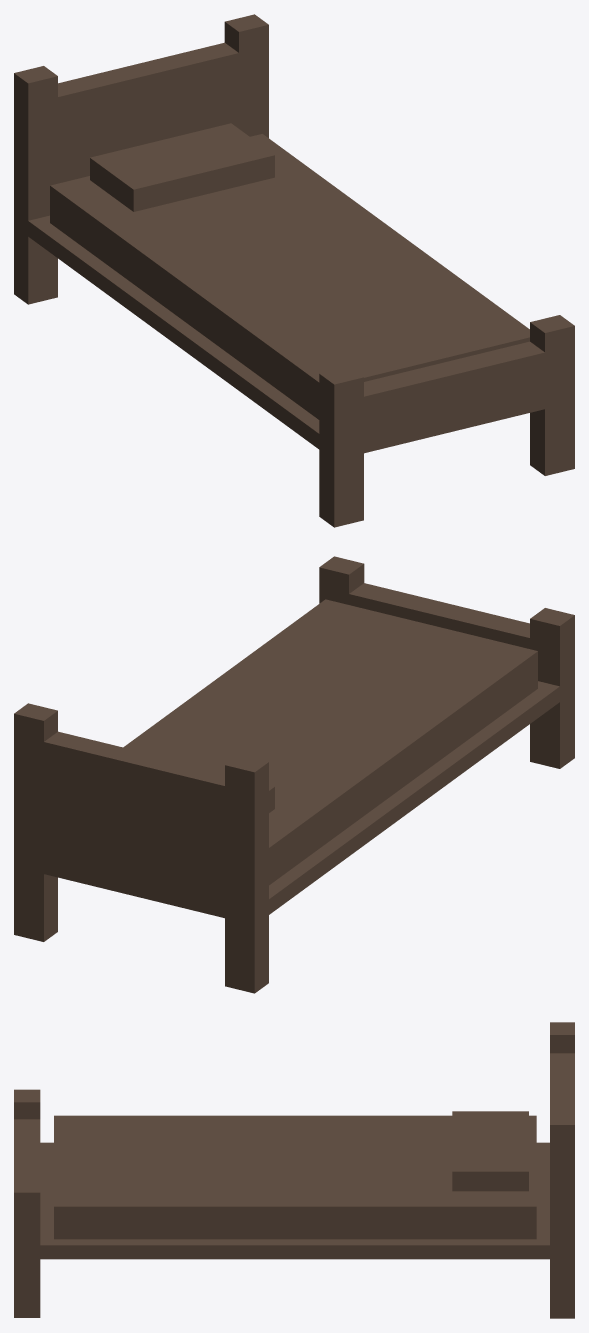
File: Cama1.fbx
3 renders of one model, top to bottom at view 1: azimuth 30°, elevation 25°; view 2: azimuth 150°, elevation 25°; view 3: azimuth 270°, elevation 25°, orthographic. The views are drawn at different scales.
Parts seen in each view (by area): view 1: Cama; view 2: Cama; view 3: Cama.
Boxes of the visible parts, x1,y1,x2,y2 form: Cama: (14, 14, 574, 527); Cama: (14, 556, 574, 993); Cama: (14, 1022, 574, 1318).
Bounding box in the file's own units: 1.43 × 1.26 × 3.3.
